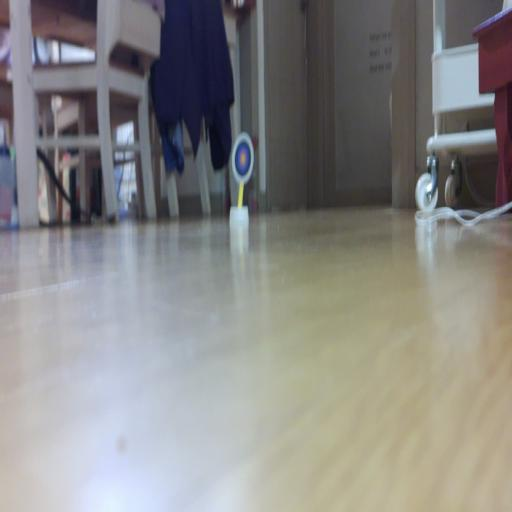target: (231, 132, 254, 186)
